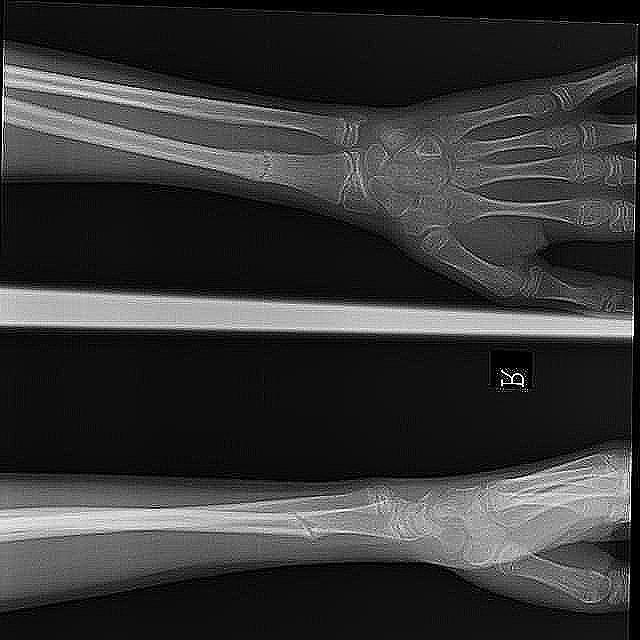bone: (271, 504, 334, 544), (240, 142, 284, 186)
